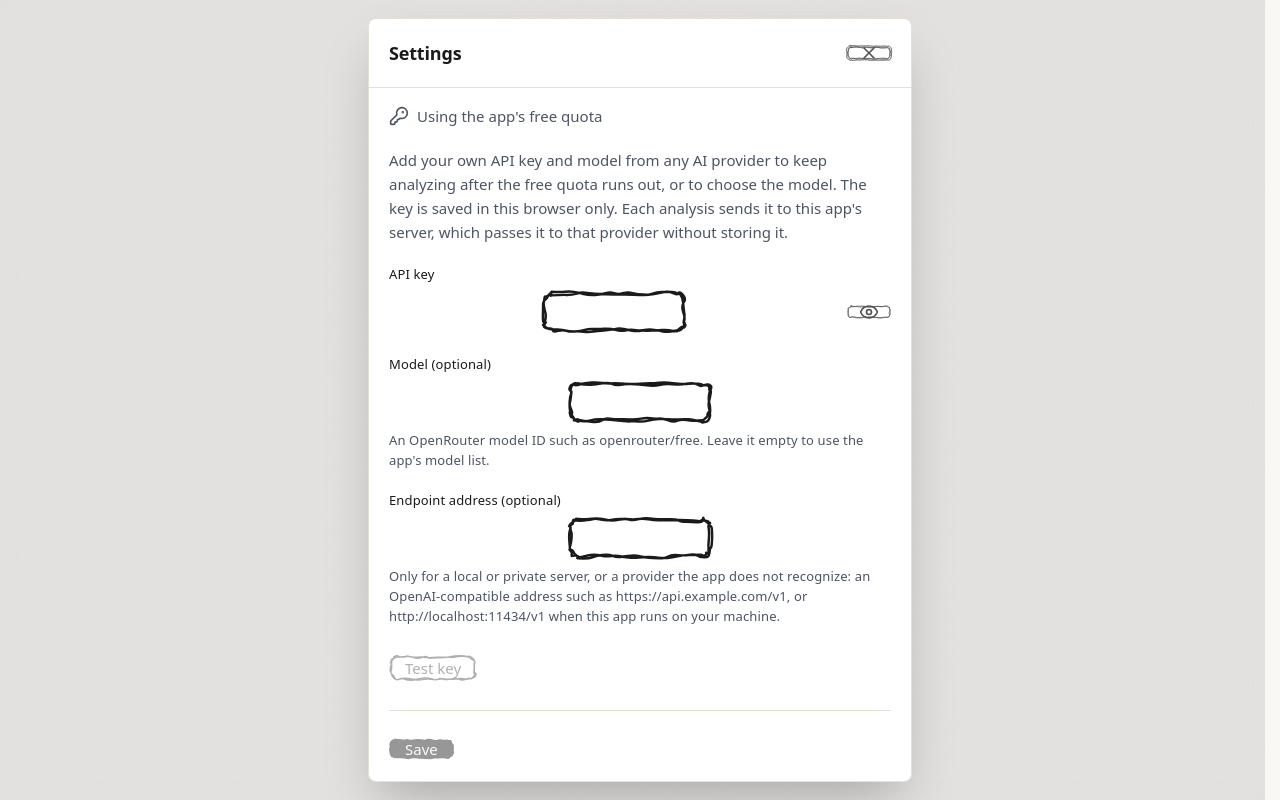
Test: ByokModal (FEAT-05, StyleGuide §7.3) › keeps the key masked until it is shown
Click the button named "Show".
click(869, 312)  # box [847, 290, 891, 334]
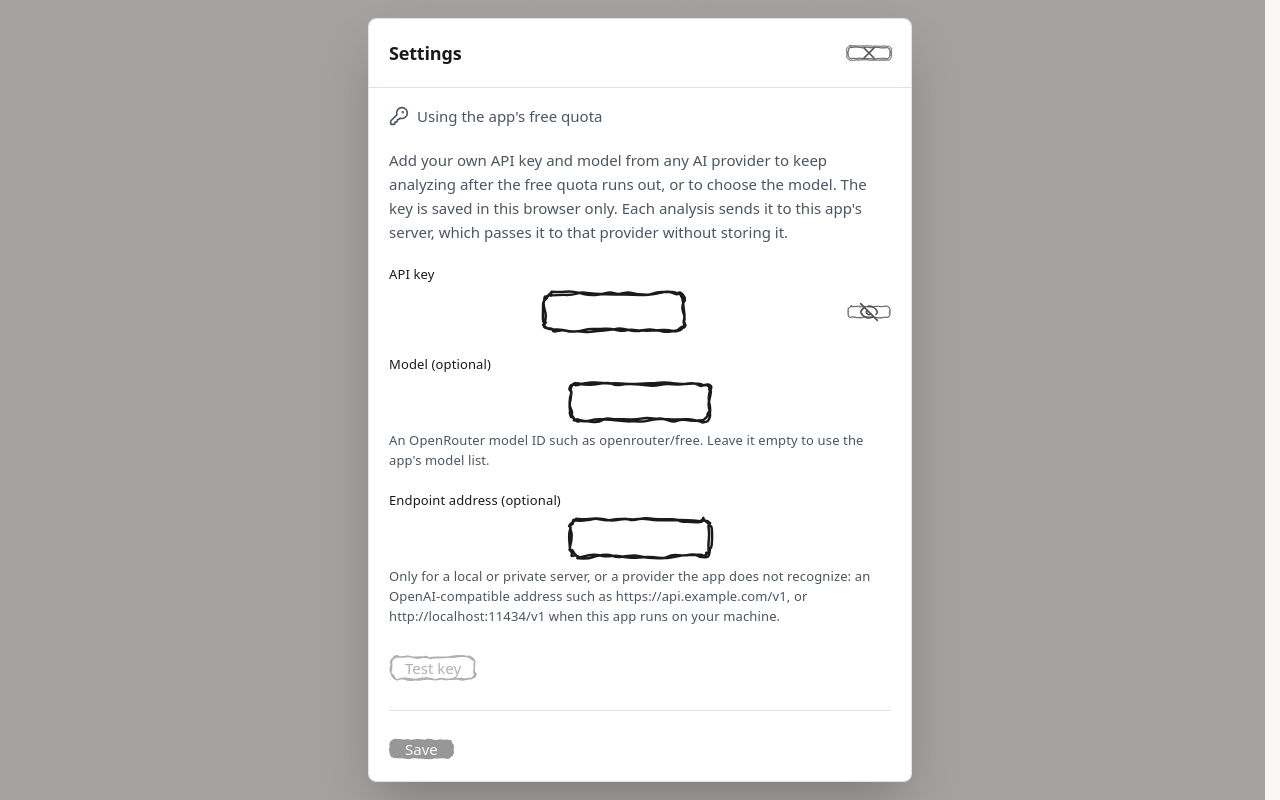
Result: the button named "Hide" is shown at [847, 290, 891, 334]
